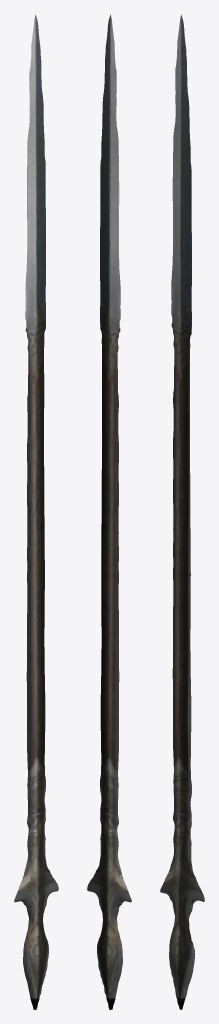
The model's file is spear1.glb.
3 views of the same model, side by side, from view 1: azimuth 30°, elevation 25°; view 2: azimuth 150°, elevation 25°; view 3: azimuth 330°, elevation 25° (orthographic).
Visible parts, largest first — view 1: Grid; view 2: Grid; view 3: Grid.
Boxes of the visible parts, x1=… form: Grid: x1=14, y1=14, x2=58, y2=1009; Grid: x1=87, y1=14, x2=131, y2=1009; Grid: x1=160, y1=14, x2=204, y2=1009.
Size of the model in its own units: 0.3367 by 7.17 by 0.0887.
Materials: 1 (1 with a texture image).
